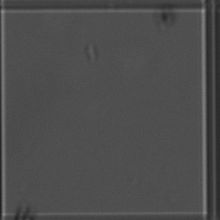Dead Cell: (153, 3, 180, 29)
